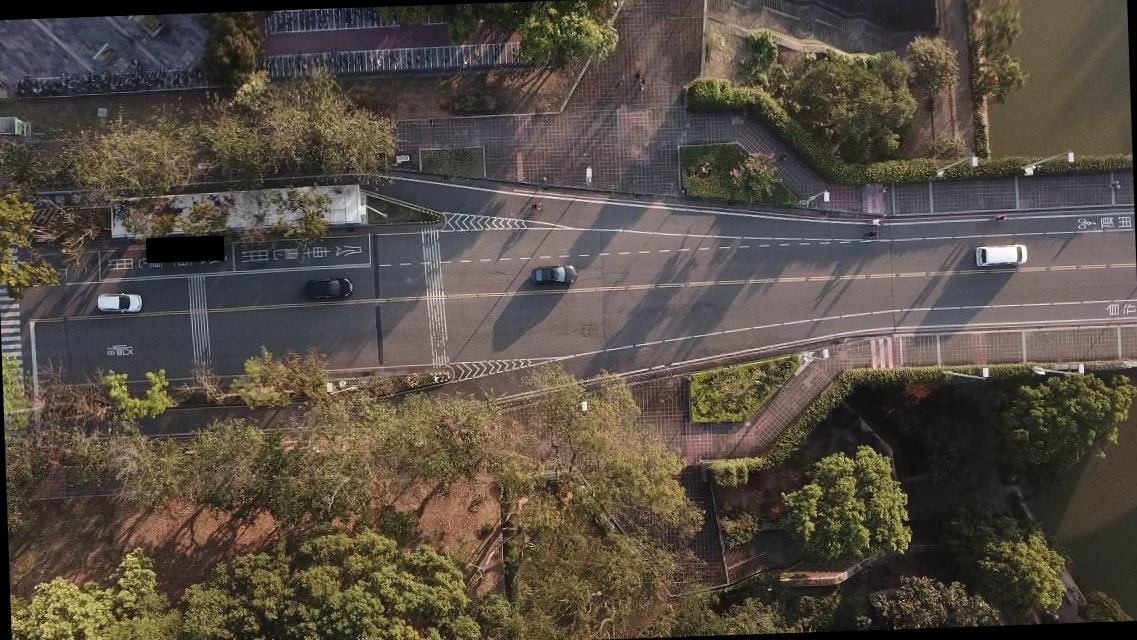vehicle: (974, 243, 1026, 268), (304, 276, 353, 300), (528, 264, 576, 288), (95, 290, 142, 314)
